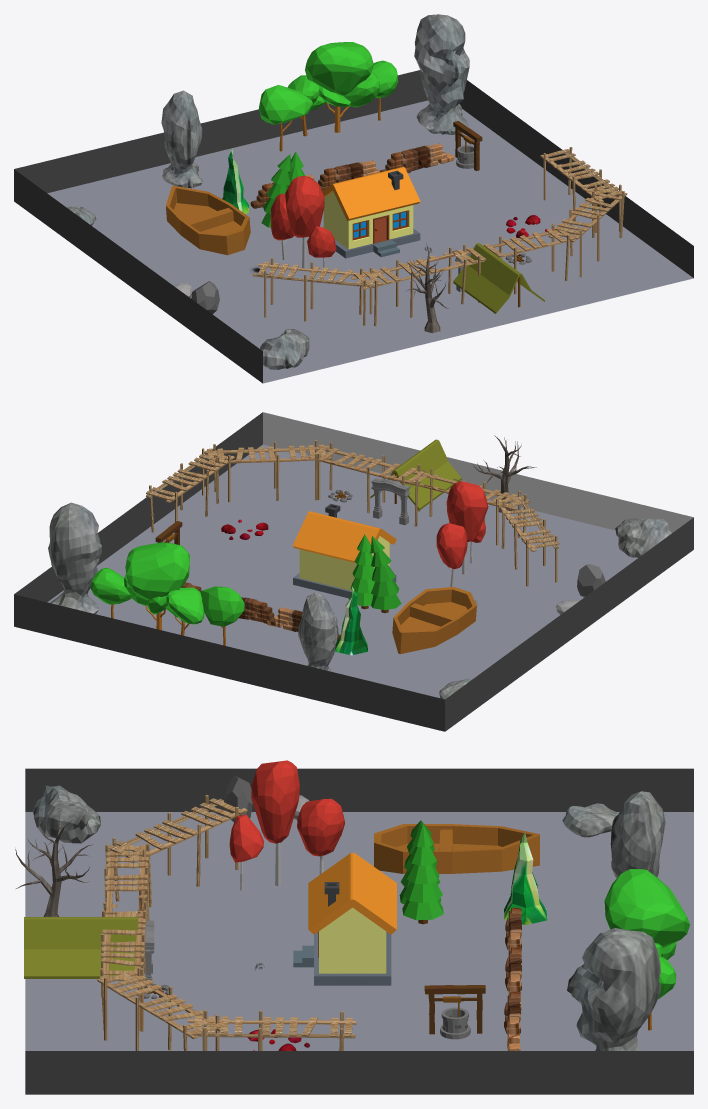
File: broken_house_map.glb
3 renders of one model, top to bottom at view 1: azimuth 30°, elevation 25°; view 2: azimuth 150°, elevation 25°; view 3: azimuth 270°, elevation 25°, orthographic. The views are drawn at different scales.
Visible parts, largest first — view 1: Plane, Well, rock1, jetty1.005, Base_Base_0, wall1.001, tree3, pointy1; view 2: Plane, Well, jetty1.005, rock1, Base_Base_0, wall1.001, pointy1, tree3; view 3: Plane, Well, rock1, jetty1.005, Base_Base_0, wall1.001, pointy1, tree3.
Part boxes in pixels (left/top/right/bottom): Plane: left=14, top=70, right=693, bottom=383; Well: left=166, top=42, right=544, bottom=314; rock1: left=66, top=14, right=469, bottom=369; jetty1.005: left=252, top=147, right=627, bottom=326; Base_Base_0: left=322, top=166, right=420, bottom=258; wall1.001: left=250, top=143, right=454, bottom=208; tree3: left=405, top=243, right=448, bottom=333; pointy1: left=222, top=148, right=249, bottom=213; Plane: left=14, top=412, right=693, bottom=731; Well: left=90, top=439, right=605, bottom=654; jetty1.005: left=146, top=440, right=559, bottom=586; rock1: left=48, top=502, right=671, bottom=699; Base_Base_0: left=292, top=504, right=396, bottom=598; wall1.001: left=181, top=582, right=340, bottom=640; pointy1: left=334, top=587, right=367, bottom=655; tree3: left=472, top=435, right=536, bottom=512; Plane: left=25, top=768, right=693, bottom=1094; Well: left=24, top=760, right=690, bottom=1039; rock1: left=33, top=785, right=665, bottom=1050; jetty1.005: left=97, top=795, right=356, bottom=1050; Base_Base_0: left=293, top=852, right=396, bottom=985; wall1.001: left=504, top=907, right=521, bottom=1050; pointy1: left=504, top=832, right=547, bottom=924; tree3: left=15, top=816, right=92, bottom=916.
Size of the model in its own units: 39.88 by 9.9 by 40.55.
Materials: 14 (12 with a texture image).
